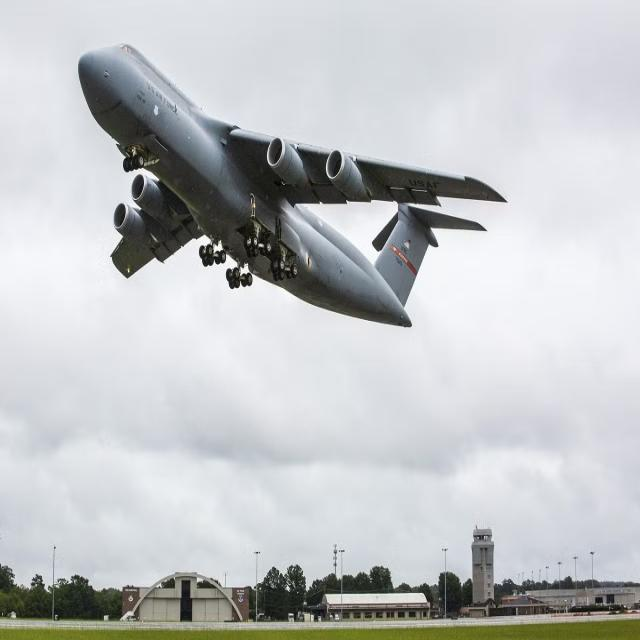C5: (55, 15, 527, 356)
